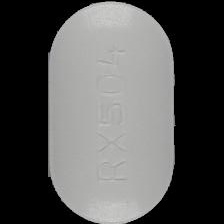21695-010: (0, 0, 224, 224)
